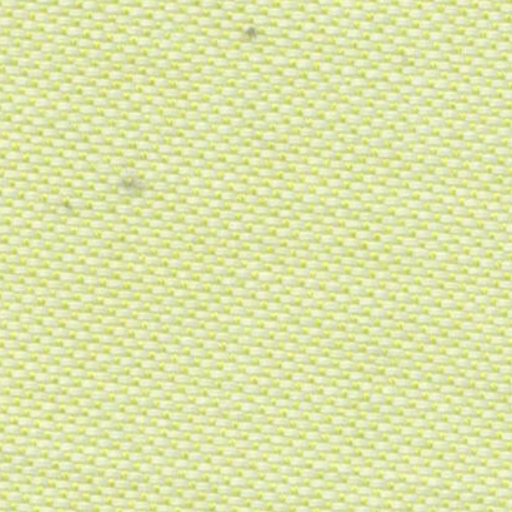WuZi: (104, 154, 160, 202), (226, 10, 268, 48), (48, 186, 84, 223)
